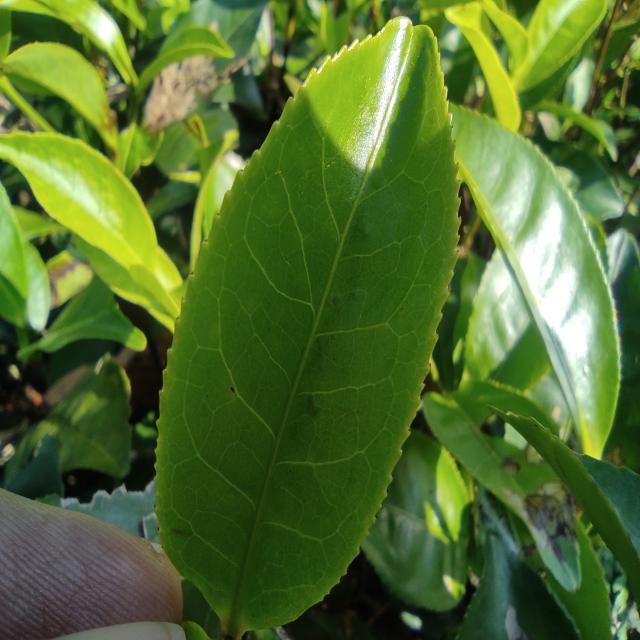Category C(4-7 days): (140, 5, 466, 640)
